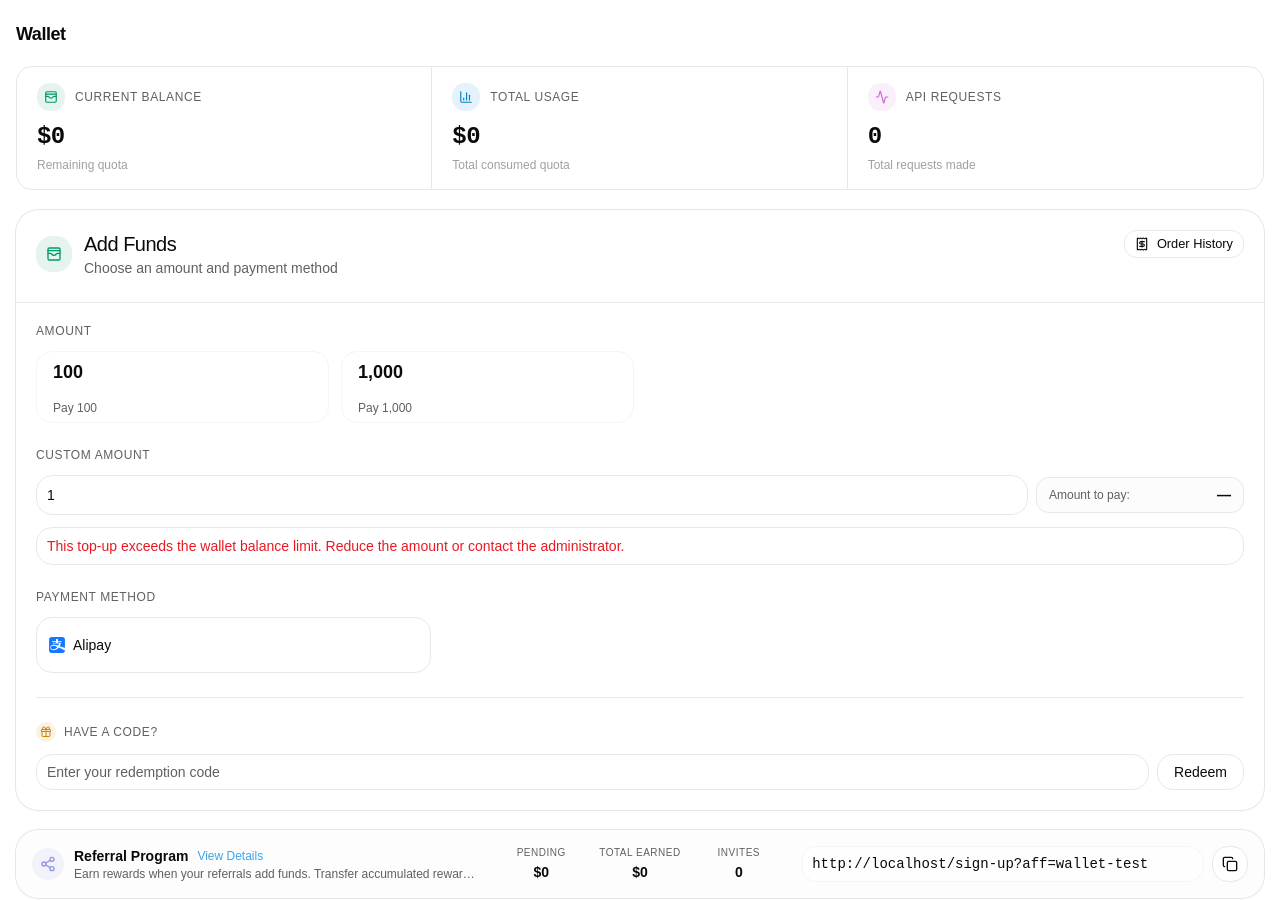
Test: changing the amount after a rejected quote restores confirmation and submits a large quoted payment
The image size is (1280, 900).
Expected: the message shows "This top-up exceeds the wallet balance limit. Reduce the amount or contact the administrator.", [47, 538, 624, 554]
Replace the text in the number field labelled "Custom Amount" with "30000" at coordinates (532, 495), box [36, 475, 1028, 515]
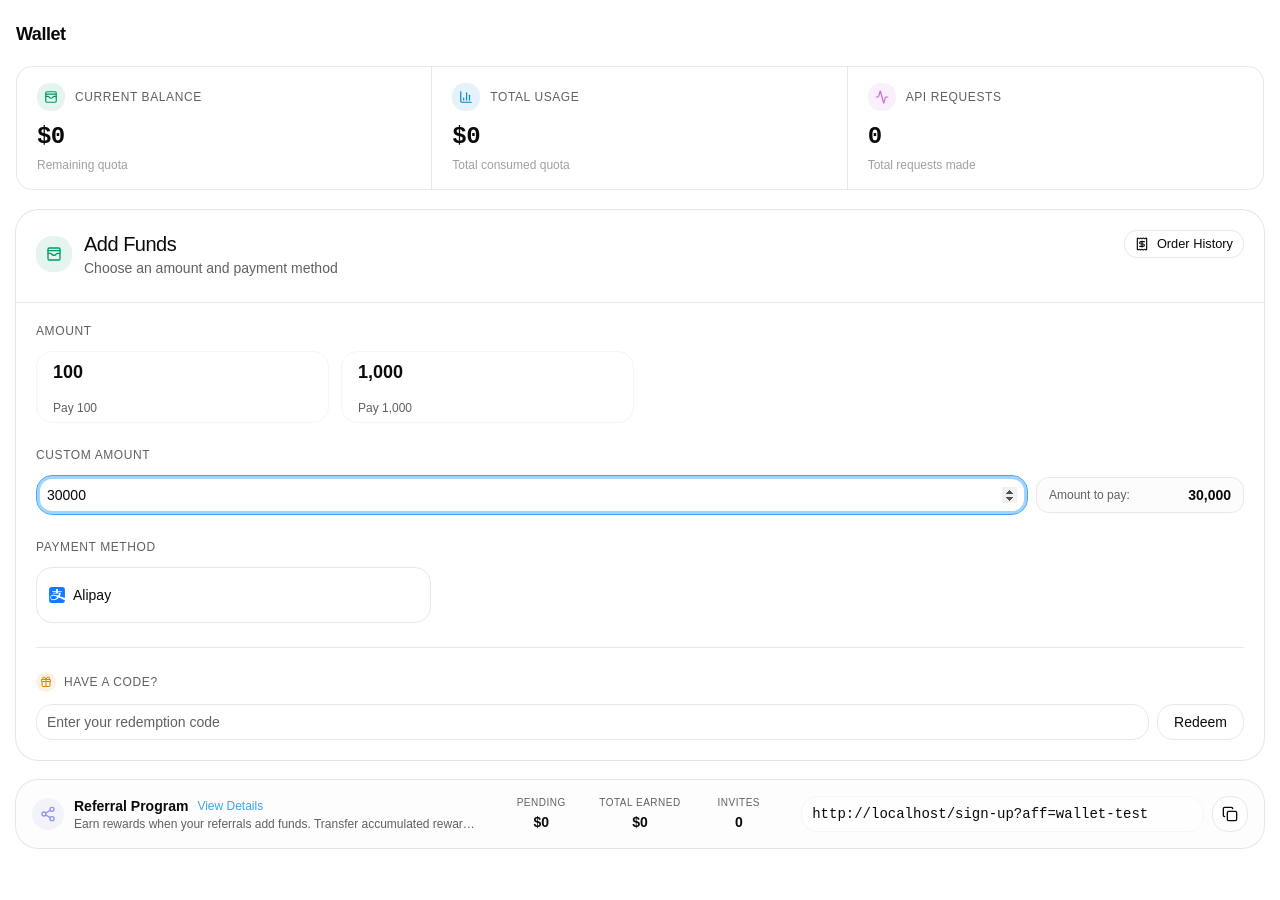
Now the message is gone
Click the button "Alipay" at coordinates (92, 595), box [36, 567, 431, 623]
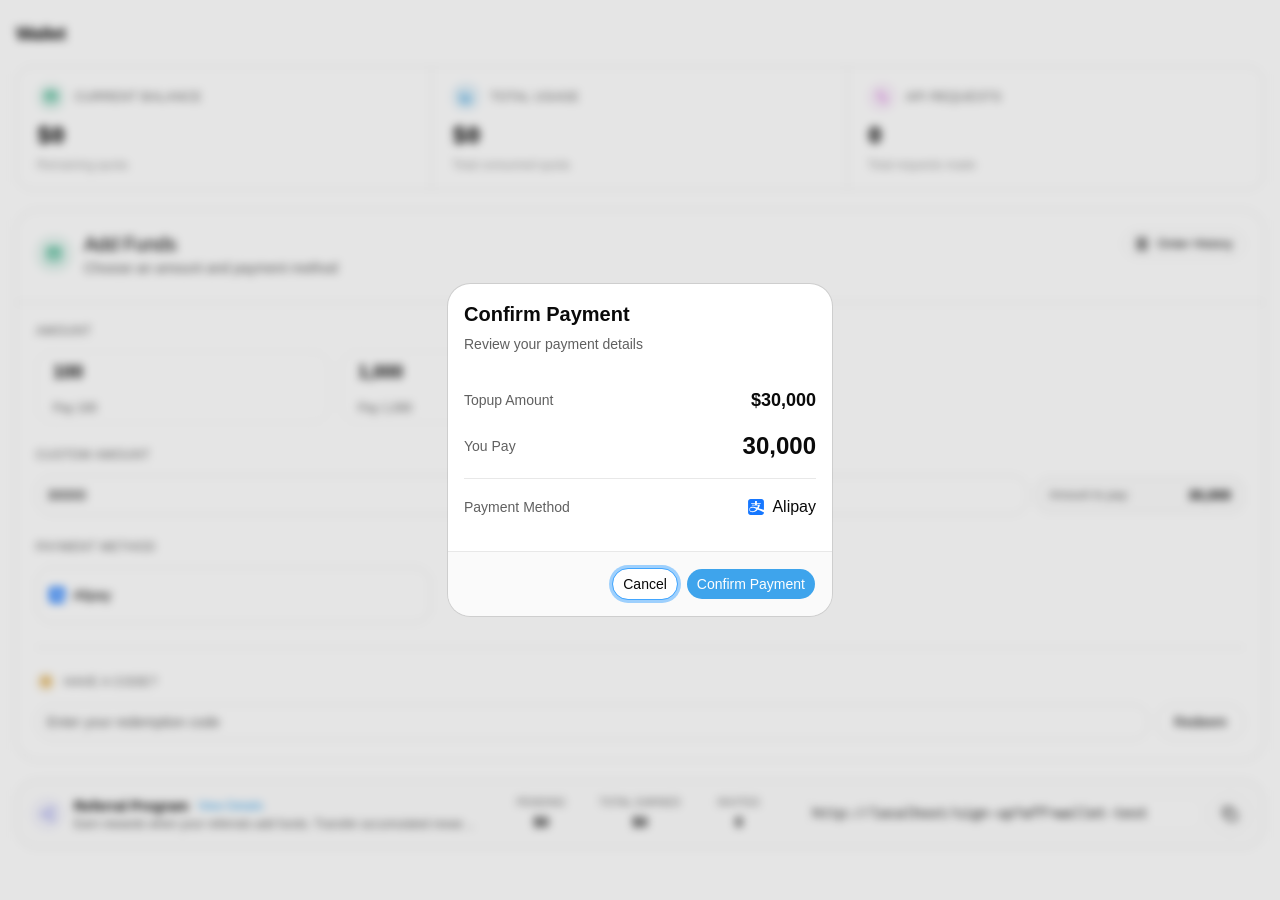
Now the text "30,000" is shown, box [743, 430, 816, 462]
Click the button "Confirm Payment" at coordinates (751, 584), box [686, 568, 816, 600]
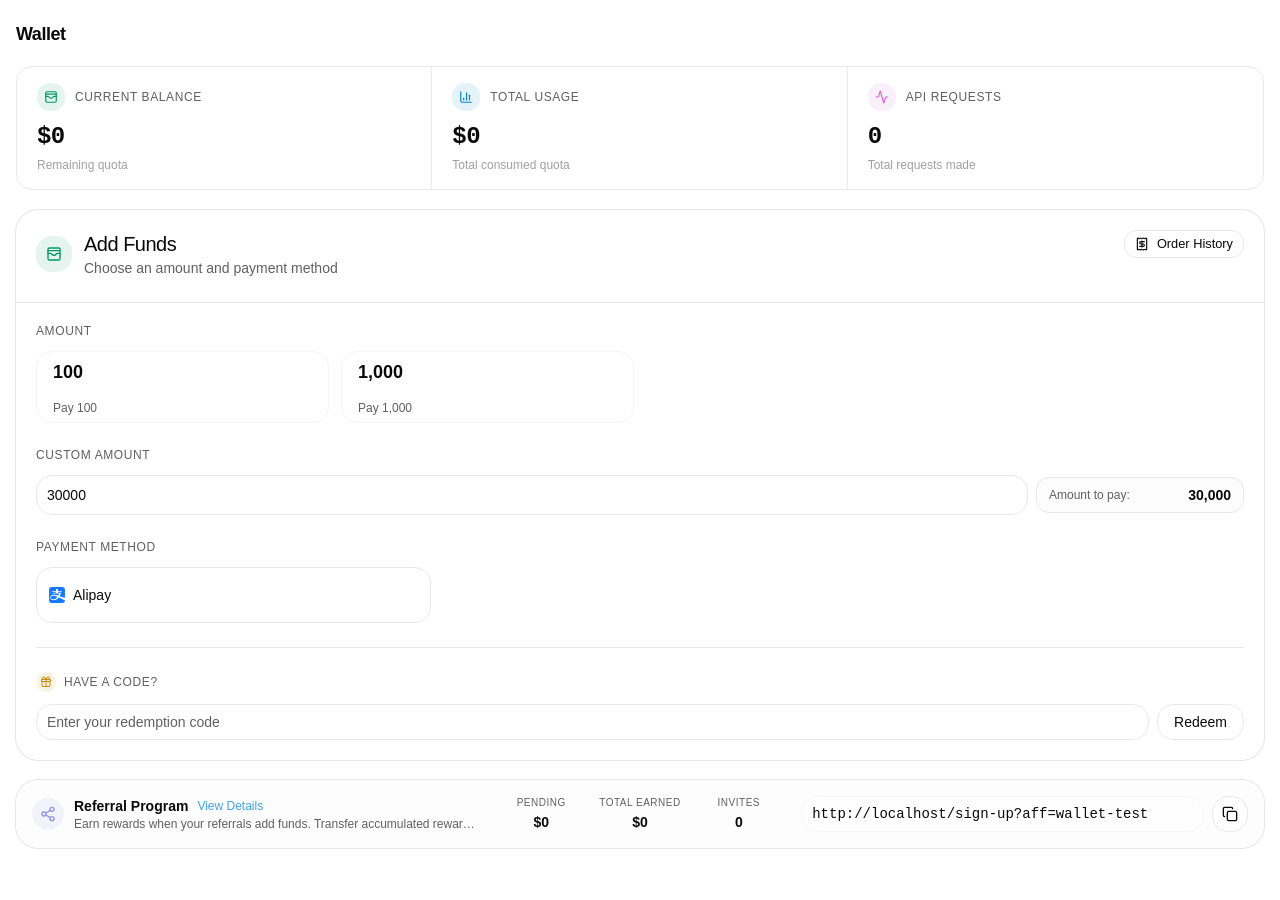
Now the dialog is gone
